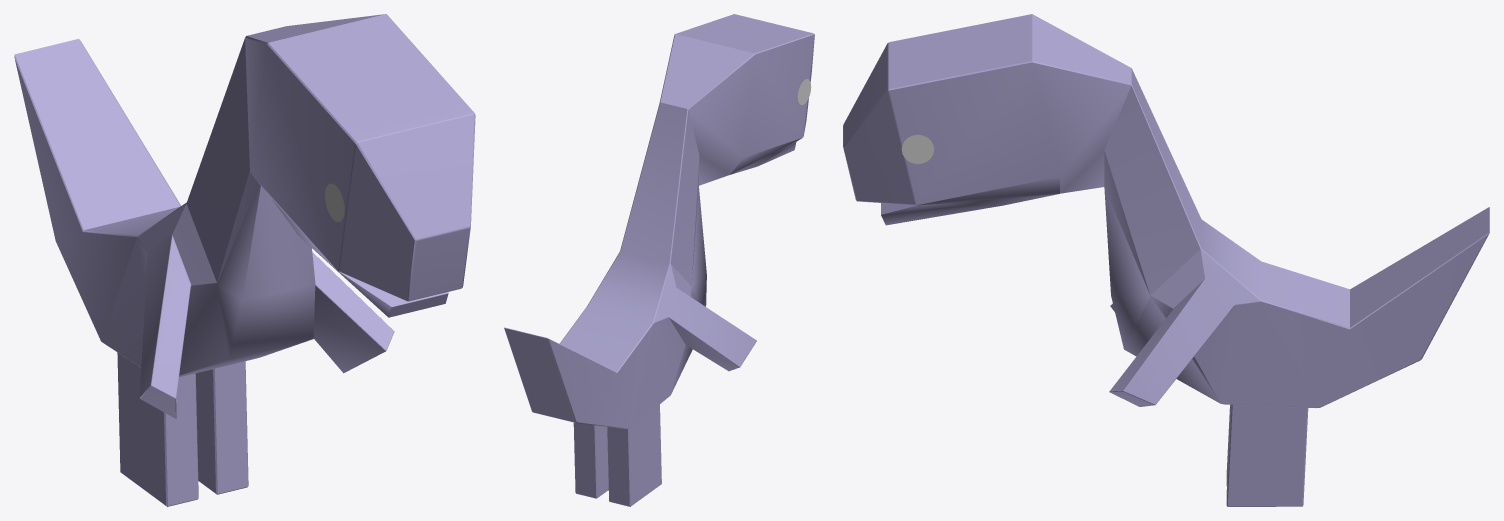
File: dino_normal.fbx
3 views of the same model, side by side, from view 1: azimuth 30°, elevation 25°; view 2: azimuth 150°, elevation 25°; view 3: azimuth 270°, elevation 25° (orthographic). The views are drawn at different scales.
Parts seen in each view (by area): view 1: pCube20, pSphere6; view 2: pCube20; view 3: pCube20, pSphere7.
Boxes of the visible parts, box(x1,y1,x2,y2) form: pCube20: box(14, 14, 475, 506); pSphere6: box(325, 183, 344, 222); pCube20: box(504, 14, 814, 506); pCube20: box(843, 14, 1489, 506); pSphere7: box(901, 134, 934, 163).
Size of the model in its own units: 69.62 by 153 by 197.
